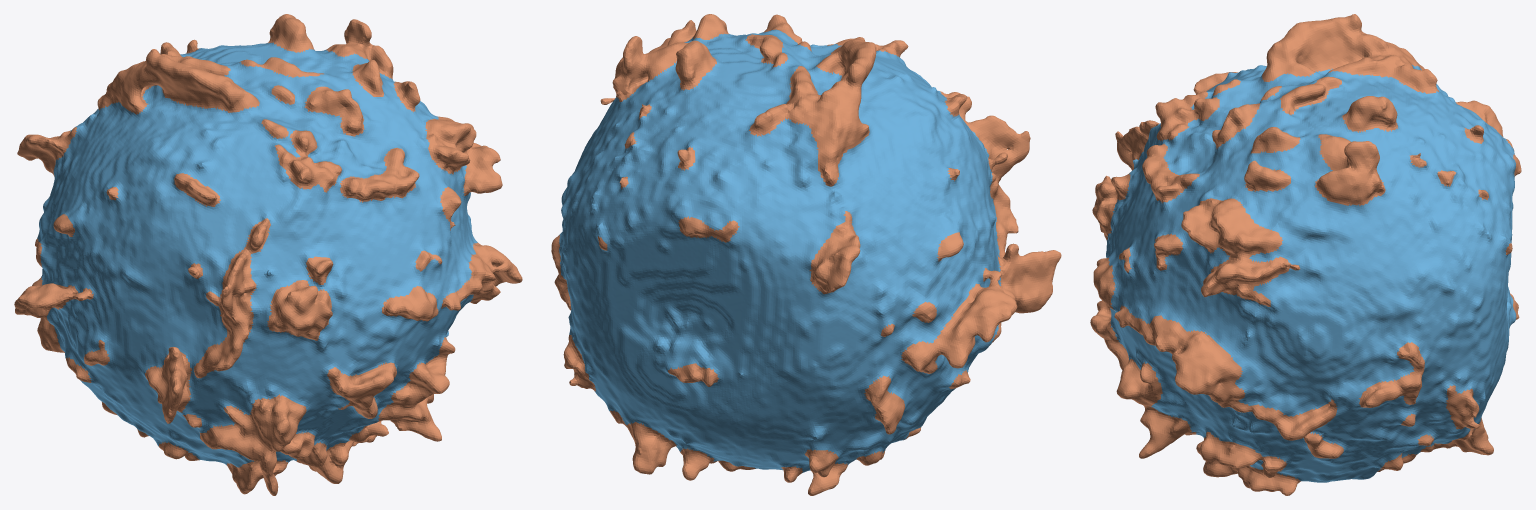
3 renders of one model, left to right at view 1: azimuth 30°, elevation 25°; view 2: azimuth 150°, elevation 25°; view 3: azimuth 270°, elevation 25°, orthographic. The views are drawn at different scales.
Bounding box in the file's own units: 169 × 155 × 148.
